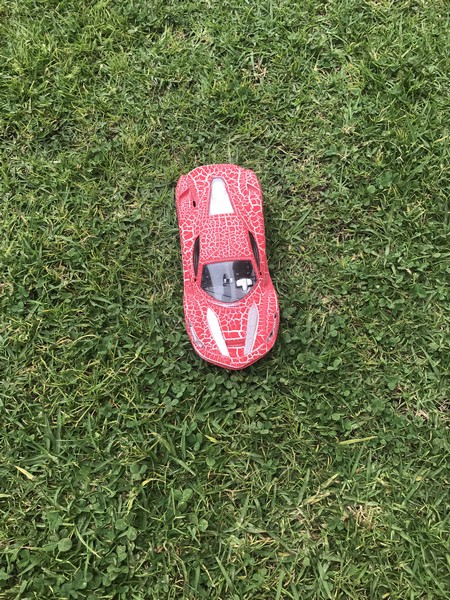RC: (173, 162, 284, 373)
